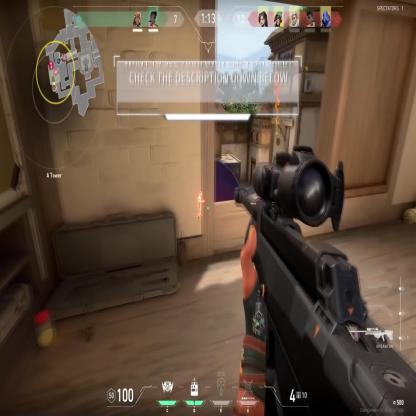enemy: (196, 189, 205, 223)
enemy_head: (199, 191, 202, 196)
